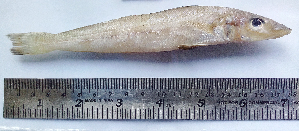kiss: (6, 2, 293, 57)
